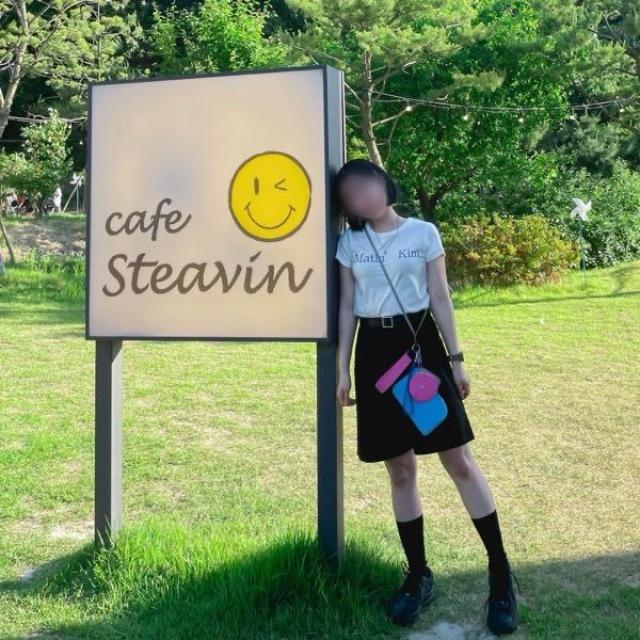shortpants: (356, 313, 471, 462)
shortsleeve: (334, 216, 446, 314)
